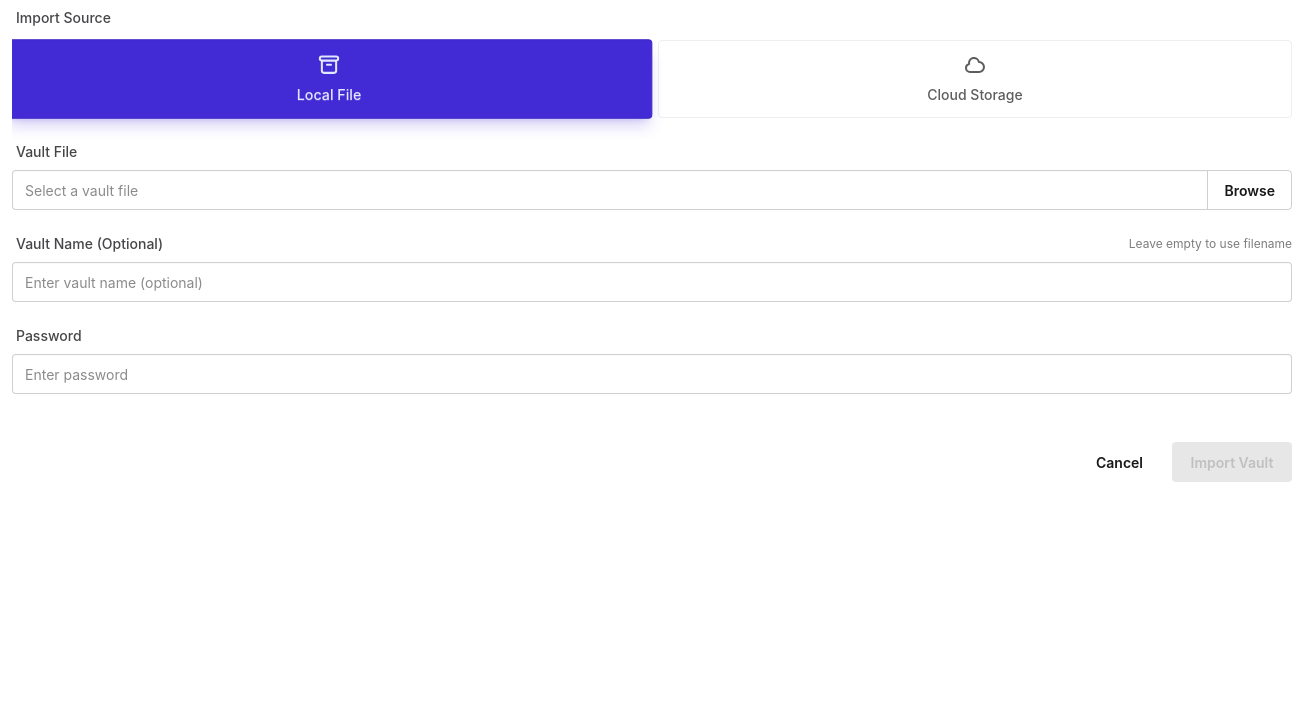
ImportVaultForm with Cloud Storage › Error Handling › should show error when vault import fails
Click the button "Browse".
click(1250, 190)  # box [1208, 170, 1292, 210]
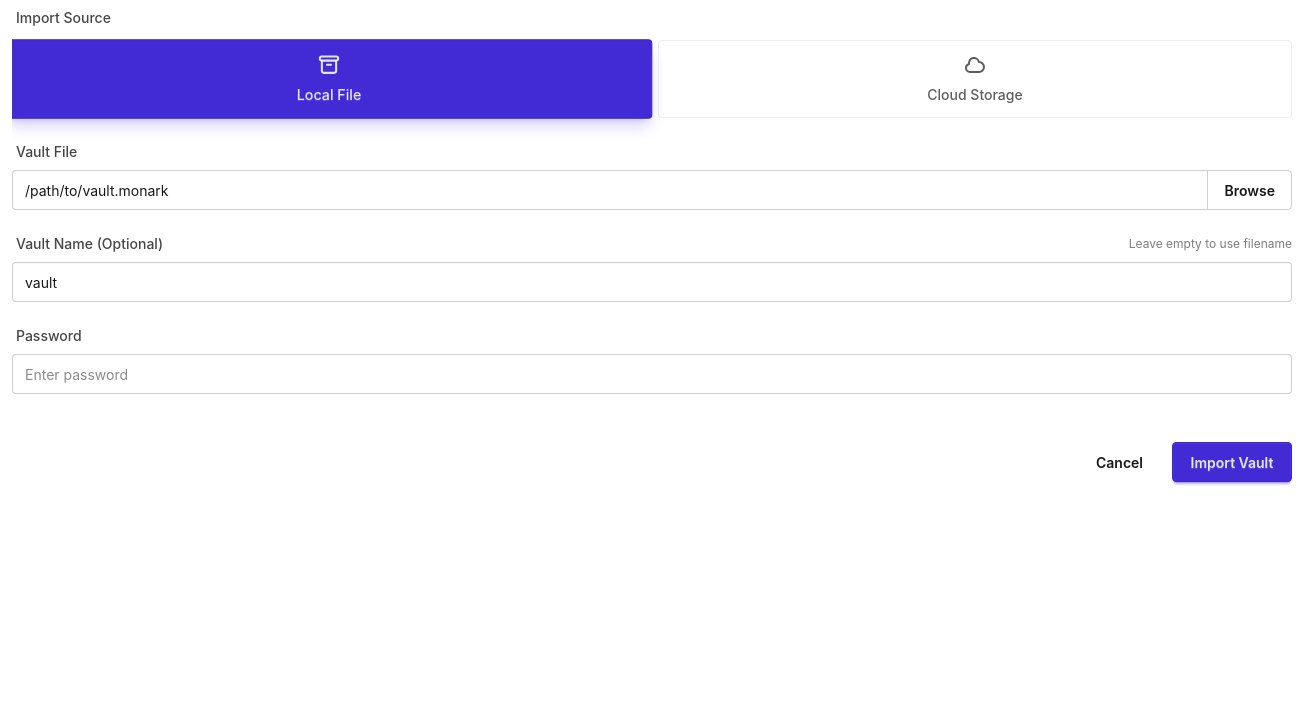
Check: the button "Import Vault" is enabled, box [1172, 442, 1292, 482]
Type "wrongpassword" into the password field with placeholder "Enter password".
click(652, 374); type("wrongpassword")  # box [12, 354, 1292, 394]
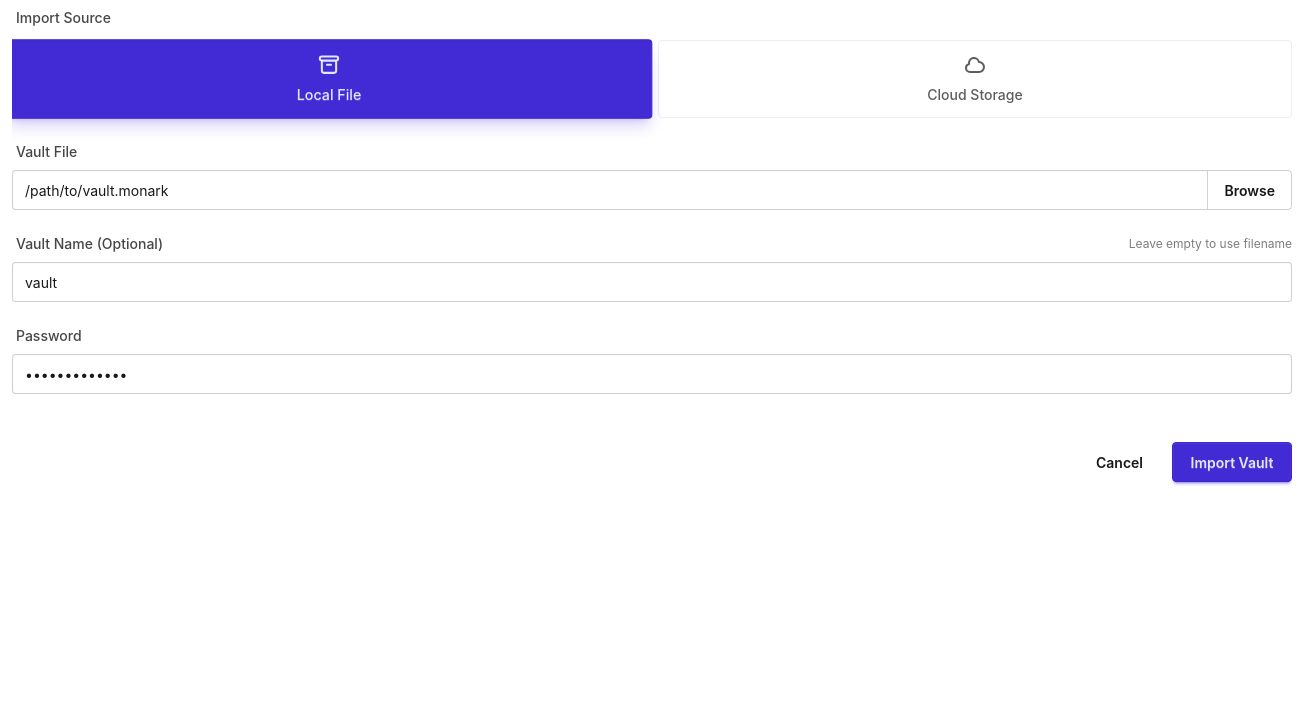
Click the button "Import Vault".
click(1232, 462)  # box [1172, 442, 1292, 482]
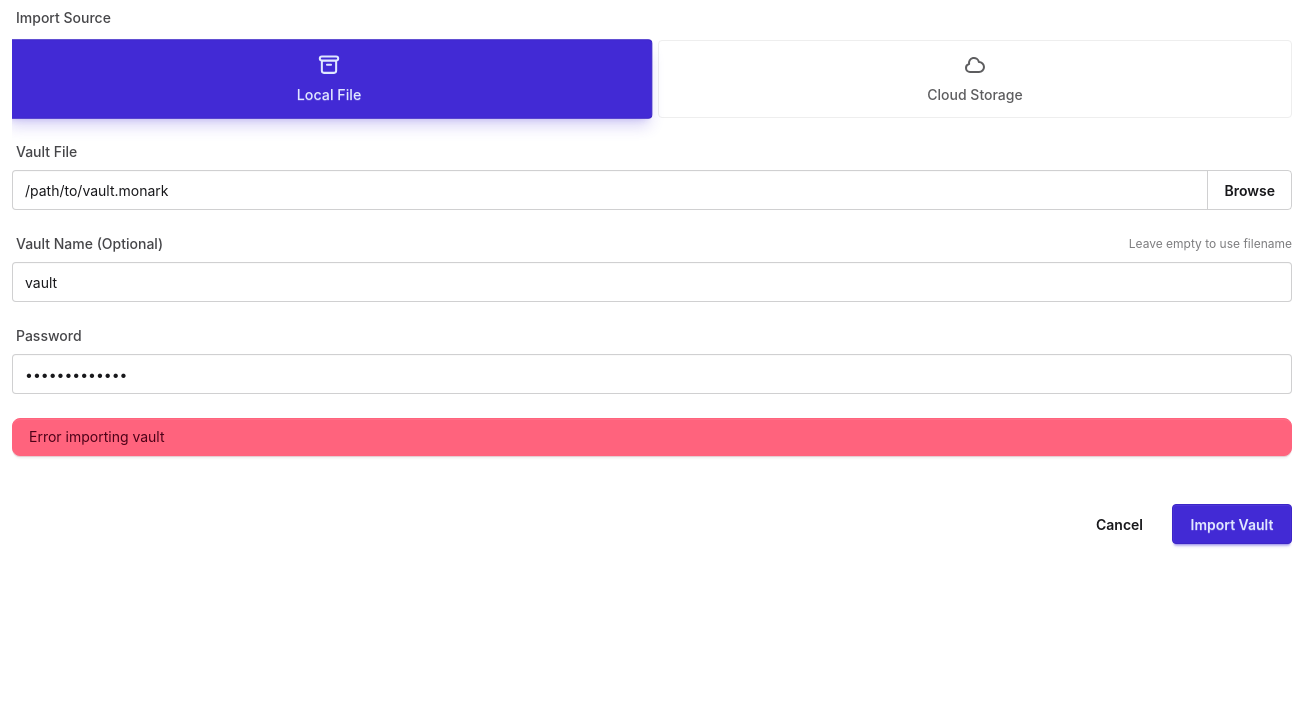
Check: the text "Error importing vault" is shown, box [29, 427, 164, 447]
